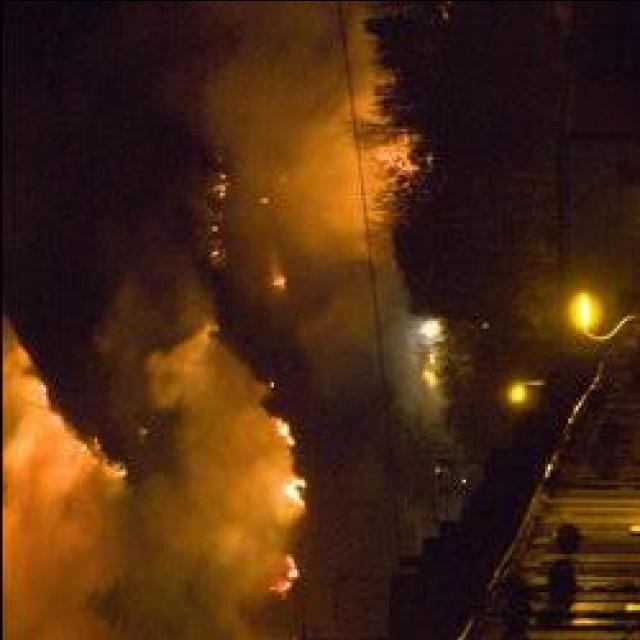smoke: (182, 412, 274, 596), (3, 430, 80, 636), (288, 89, 366, 255), (142, 324, 225, 412)
